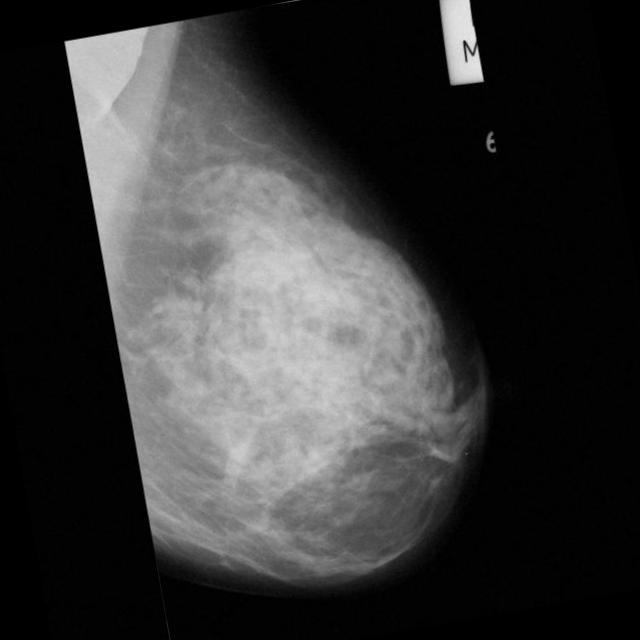ARCH: (156, 273, 244, 360)
